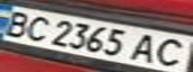2: (45, 17, 75, 48)
3: (66, 20, 90, 52)
5: (103, 26, 133, 60)
6: (84, 24, 109, 55)
A: (127, 31, 166, 64)
B: (0, 8, 36, 38)
C: (148, 35, 193, 70), (18, 12, 54, 43)
